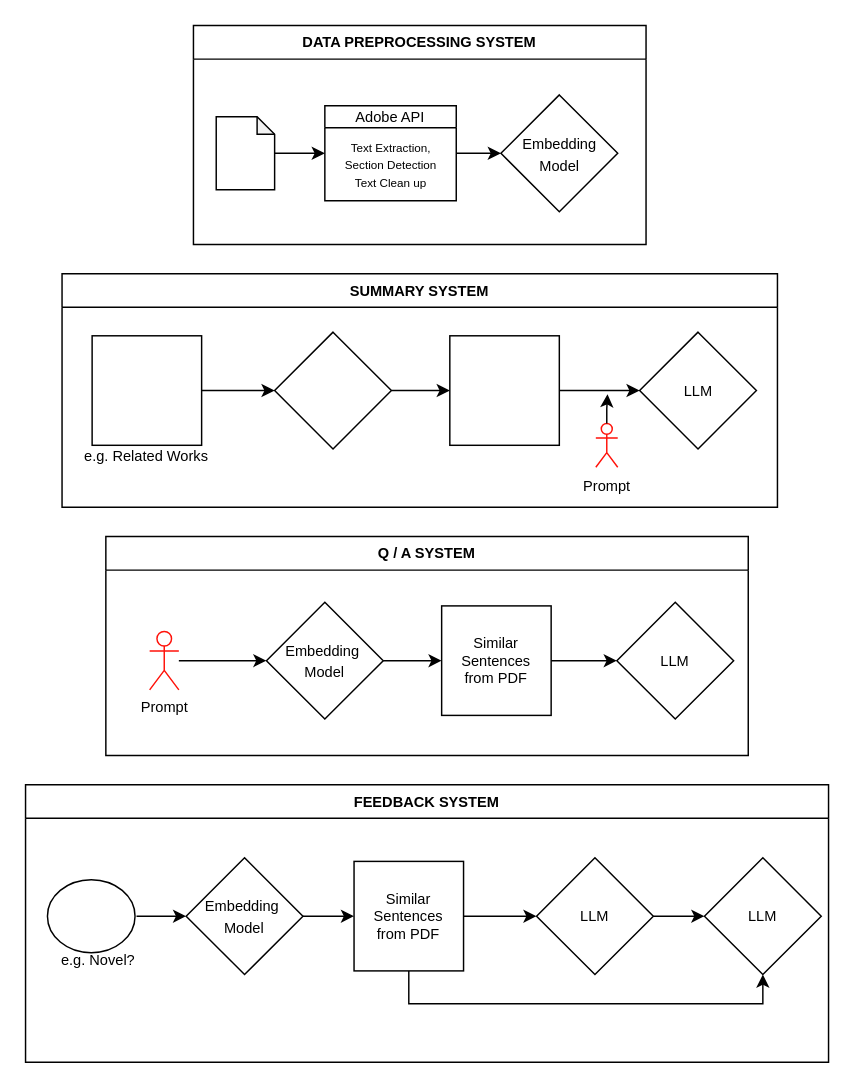
The diagram is 854 pixels wide and 1088 high, and some of its shapes have lost their labels. The centre of each missing label's shape, as x and y in pixels:
"LexRank algorithm" belongs at pixel 332 390.
"Most important sentences" belongs at pixel 503 389.
"PDF" belongs at pixel 245 152.
"Section lorem ipsum...." belongs at pixel 146 389.
"TASK BUTTON" belongs at pixel 90 915.
